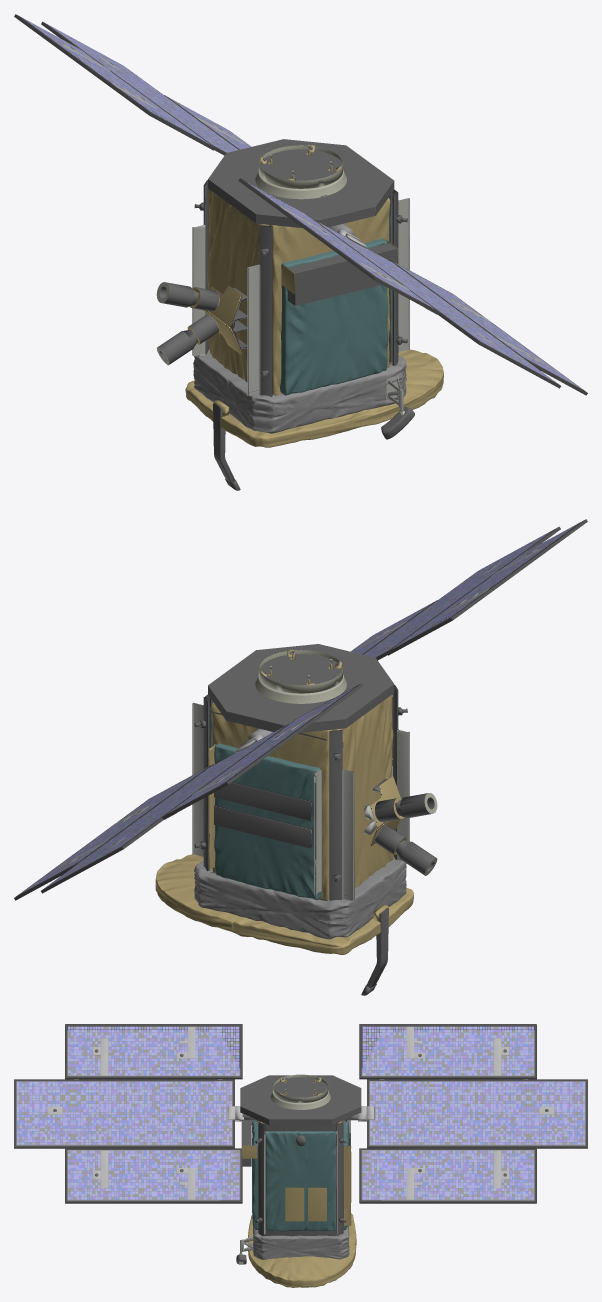
Rendered from cloud-sat-a.glb.
3 views of the same model, one above another, from view 1: azimuth 30°, elevation 25°; view 2: azimuth 150°, elevation 25°; view 3: azimuth 270°, elevation 25° (orthographic). The views are drawn at different scales.
Visible parts, largest first — view 1: Cloudsat_Unity_v002 [Layer1], Cloudsat_Unity_v002 [Layer5], Cloudsat_Unity_v002 [Layer4], Cloudsat_Unity_v002 [Layer2], Cloudsat_Unity_v002 [Layer3], Cloudsat_Unity_v002 [Layer7], Cloudsat_Unity_v002 [Layer11], Cloudsat_Unity_v002 [Layer12], Cloudsat_Unity_v002 [Layer16], Cloudsat_Unity_v002 [Layer15], Cloudsat_Unity_v002 [Layer18], Cloudsat_Unity_v002 [Layer8] (+7 smaller); view 2: Cloudsat_Unity_v002 [Layer1], Cloudsat_Unity_v002 [Layer4], Cloudsat_Unity_v002 [Layer5], Cloudsat_Unity_v002 [Layer2], Cloudsat_Unity_v002 [Layer3], Cloudsat_Unity_v002 [Layer7], Cloudsat_Unity_v002 [Layer11], Cloudsat_Unity_v002 [Layer12], Cloudsat_Unity_v002 [Layer16], Cloudsat_Unity_v002 [Layer15], Cloudsat_Unity_v002 [Layer18], Cloudsat_Unity_v002 [Layer8] (+7 smaller); view 3: Cloudsat_Unity_v002 [Layer12], Cloudsat_Unity_v002 [Layer16], Cloudsat_Unity_v002 [Layer18], Cloudsat_Unity_v002 [Layer15], Cloudsat_Unity_v002 [Layer11], Cloudsat_Unity_v002 [Layer19], Cloudsat_Unity_v002 [Layer17], Cloudsat_Unity_v002 [Layer14], Cloudsat_Unity_v002 [Layer20], Cloudsat_Unity_v002 [Layer1], Cloudsat_Unity_v002 [Layer5], Cloudsat_Unity_v002 [Layer13] (+6 smaller).
Boxes of the visible parts, box(x1,y1,x2,y2) form: Cloudsat_Unity_v002 [Layer1]: box(70, 47, 534, 490); Cloudsat_Unity_v002 [Layer5]: box(280, 205, 392, 395); Cloudsat_Unity_v002 [Layer4]: box(207, 189, 390, 395); Cloudsat_Unity_v002 [Layer2]: box(193, 349, 406, 433); Cloudsat_Unity_v002 [Layer3]: box(185, 349, 443, 447); Cloudsat_Unity_v002 [Layer7]: box(192, 147, 409, 415); Cloudsat_Unity_v002 [Layer11]: box(14, 14, 587, 395); Cloudsat_Unity_v002 [Layer12]: box(29, 22, 582, 389); Cloudsat_Unity_v002 [Layer16]: box(27, 21, 577, 385); Cloudsat_Unity_v002 [Layer15]: box(36, 25, 567, 380); Cloudsat_Unity_v002 [Layer18]: box(24, 19, 578, 386); Cloudsat_Unity_v002 [Layer8]: box(156, 145, 346, 365); Cloudsat_Unity_v002 [Layer1]: box(67, 552, 531, 995); Cloudsat_Unity_v002 [Layer4]: box(211, 695, 393, 899); Cloudsat_Unity_v002 [Layer5]: box(209, 707, 321, 899); Cloudsat_Unity_v002 [Layer2]: box(194, 856, 406, 939); Cloudsat_Unity_v002 [Layer3]: box(155, 854, 413, 954); Cloudsat_Unity_v002 [Layer7]: box(192, 652, 409, 900); Cloudsat_Unity_v002 [Layer11]: box(14, 519, 587, 900); Cloudsat_Unity_v002 [Layer12]: box(19, 529, 568, 894); Cloudsat_Unity_v002 [Layer16]: box(24, 526, 574, 890); Cloudsat_Unity_v002 [Layer15]: box(34, 530, 565, 885); Cloudsat_Unity_v002 [Layer18]: box(23, 524, 577, 891); Cloudsat_Unity_v002 [Layer8]: box(255, 649, 437, 875); Cloudsat_Unity_v002 [Layer12]: box(16, 1030, 585, 1200); Cloudsat_Unity_v002 [Layer16]: box(17, 1026, 584, 1199); Cloudsat_Unity_v002 [Layer18]: box(17, 1026, 584, 1199); Cloudsat_Unity_v002 [Layer15]: box(17, 1026, 584, 1199); Cloudsat_Unity_v002 [Layer11]: box(14, 1024, 587, 1203); Cloudsat_Unity_v002 [Layer19]: box(17, 1026, 584, 1199); Cloudsat_Unity_v002 [Layer17]: box(17, 1026, 584, 1199); Cloudsat_Unity_v002 [Layer14]: box(17, 1026, 584, 1199); Cloudsat_Unity_v002 [Layer20]: box(17, 1026, 584, 1199); Cloudsat_Unity_v002 [Layer1]: box(53, 1049, 548, 1264); Cloudsat_Unity_v002 [Layer5]: box(252, 1120, 349, 1231); Cloudsat_Unity_v002 [Layer13]: box(17, 1026, 584, 1199).
Size of the model in its own units: 62.33 by 76.6 by 172.
